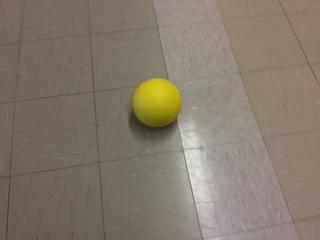power_cell: (129, 77, 186, 130)
